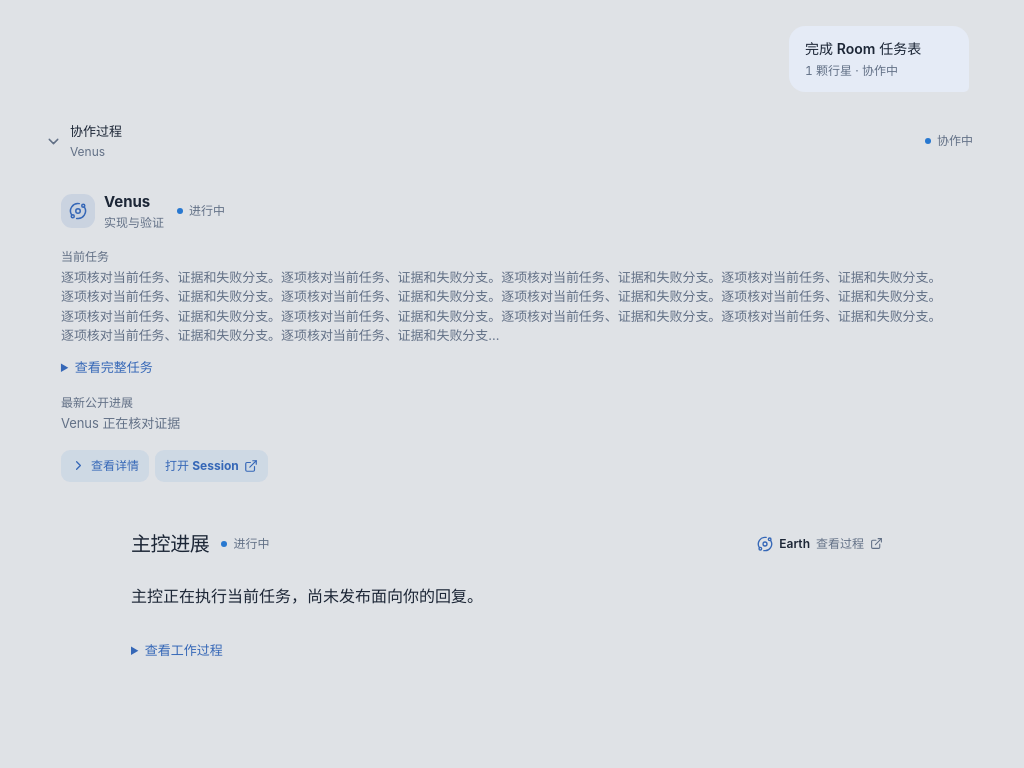
Scenario: PawRoomRoundSheet (UR-170/172) › retains a single worker full assignment behind an explicit disclosure without a table
Check: the element named "Venus 当前任务" shows "Venus 正在核对证据", box [61,415,180,431]
Check: the element named "Venus 当前任务" does not show "任务全文结尾", box [41,173,973,500]
Step 1. Click the heading "查看完整任务" → (114, 367), box [75,359,153,375]
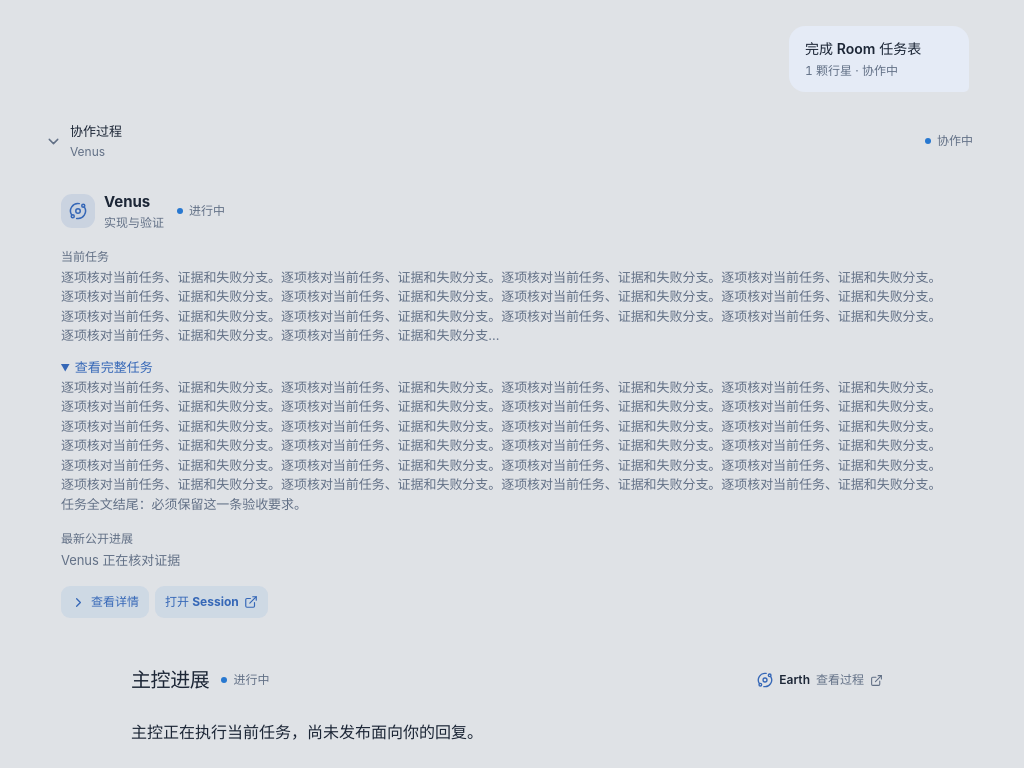
Check: the button with aria-label "打开 Venus Session" is shown, box [155,586,268,618]
Check: the text "任务全文结尾：必须保留这一条验收要求。" is shown, box [61,496,307,512]
